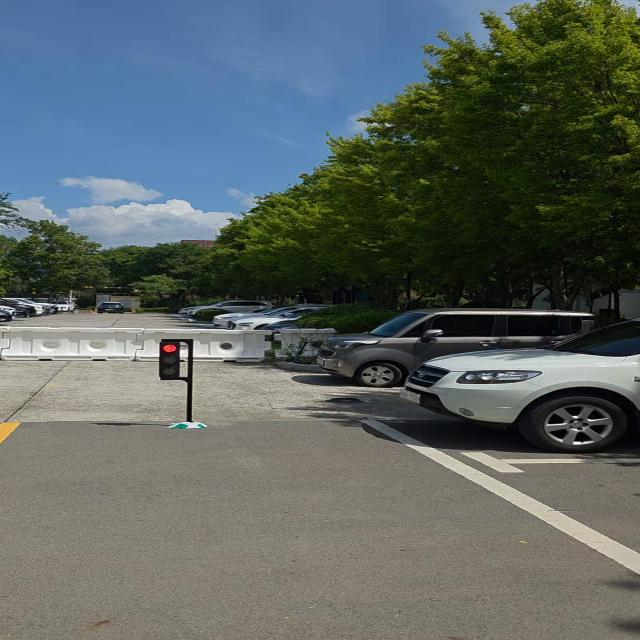red: (160, 341, 191, 376)
